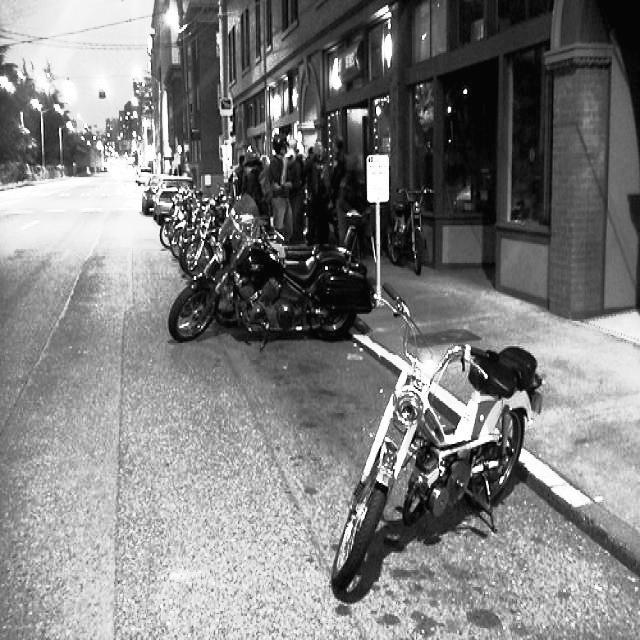Bicycle: (336, 282, 542, 596)
Motorcycle: (169, 188, 380, 363)
